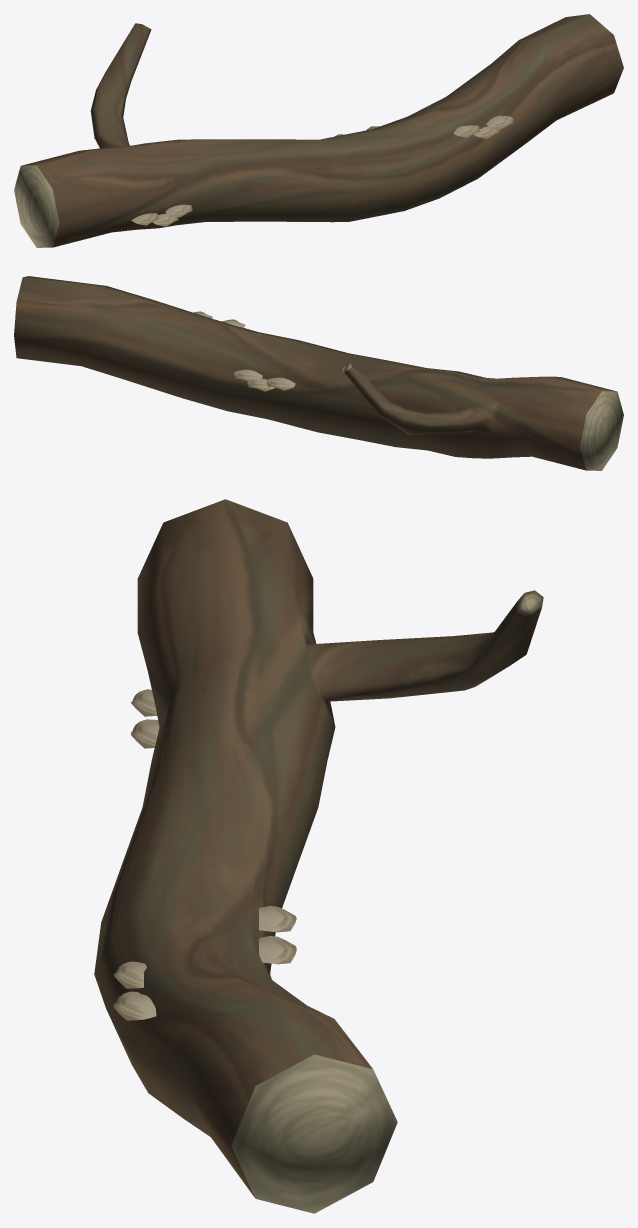
File: fallenlog.fbx
3 renders of one model, top to bottom at view 1: azimuth 30°, elevation 25°; view 2: azimuth 150°, elevation 25°; view 3: azimuth 270°, elevation 25°, orthographic. The views are drawn at different scales.
Parts seen in each view (by area): view 1: fallenlog1; view 2: fallenlog1; view 3: fallenlog1.
Part boxes in pixels (left/top/right/bottom): fallenlog1: left=14, top=14, right=623, bottom=247; fallenlog1: left=14, top=276, right=623, bottom=470; fallenlog1: left=94, top=499, right=543, bottom=1213.
Bounding box in the file's own units: 799 × 209 × 273.
